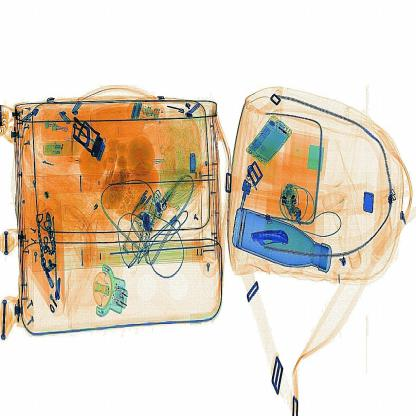knife: (244, 218, 300, 258)
